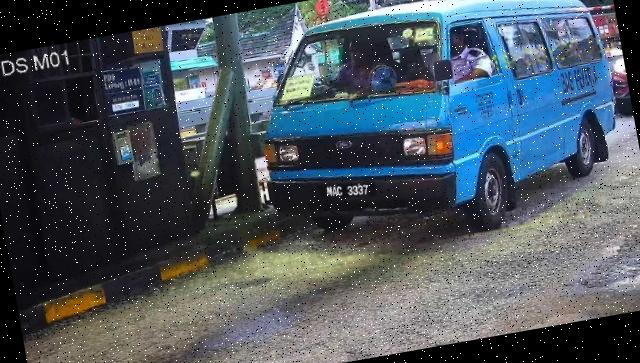License_Plate: (322, 174, 379, 208)
van: (244, 1, 634, 264)
